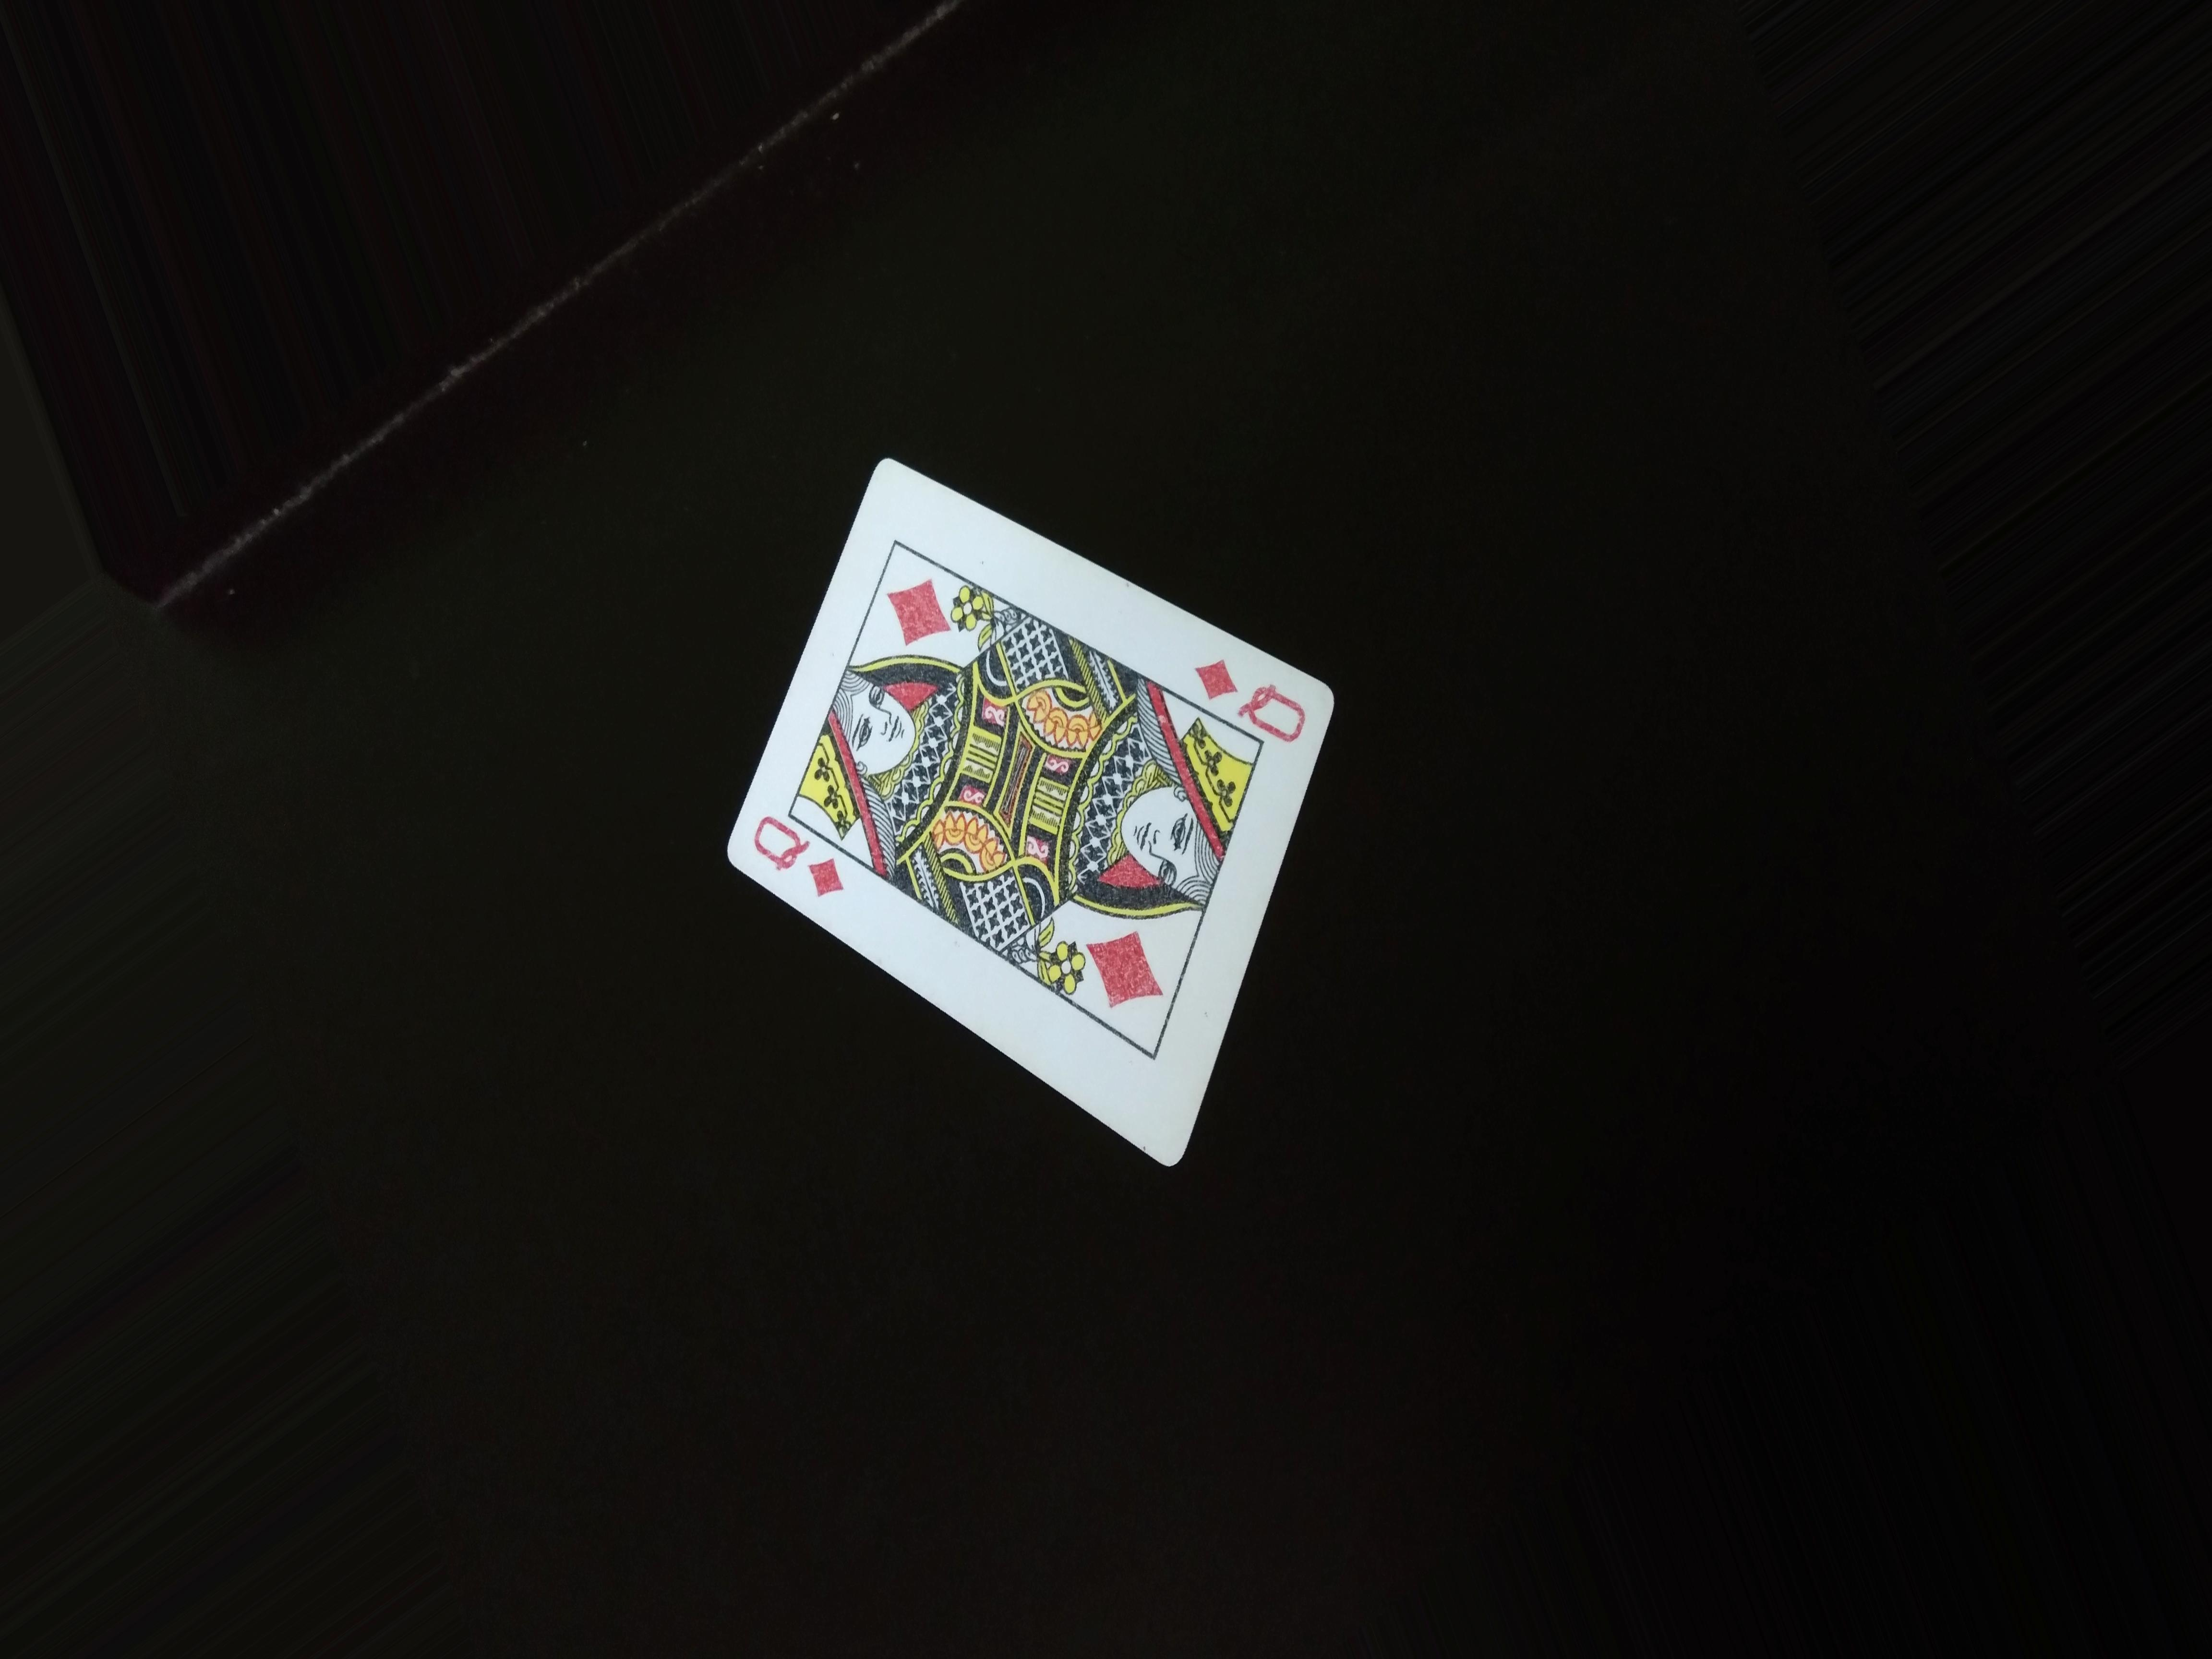QD: (740, 812, 845, 901)
